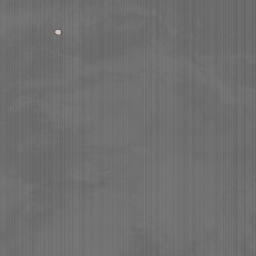Target: (54, 30, 63, 36)
